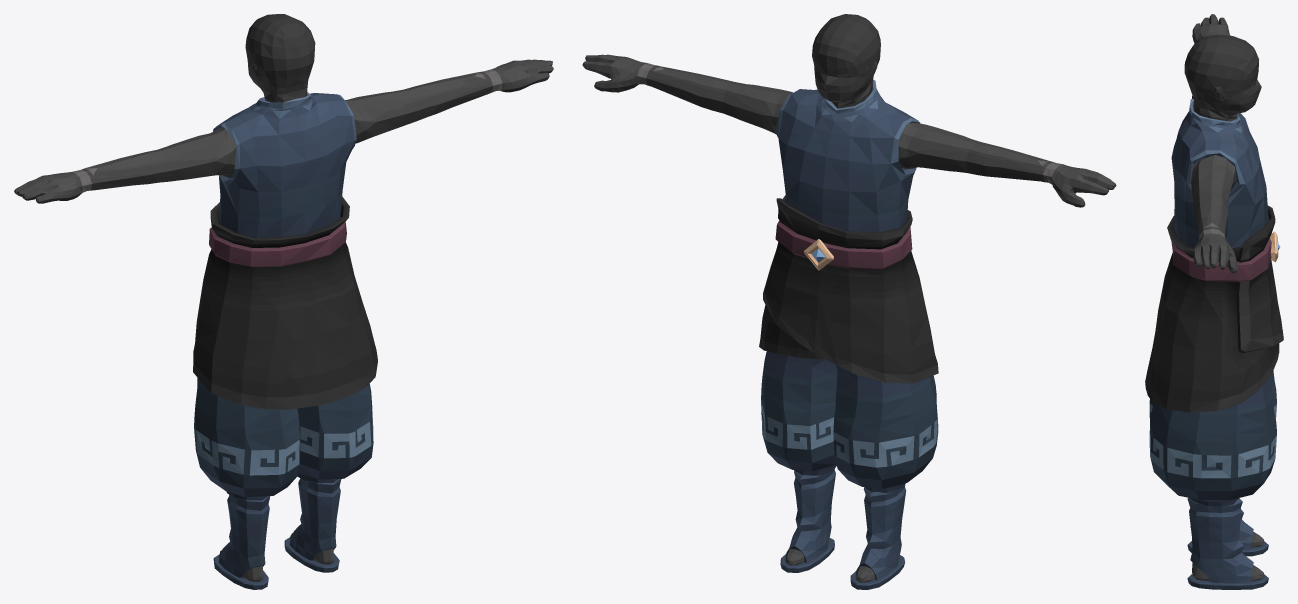
The model's file is NPC_AP23PianistBasic.glb.
3 renders of one model, left to right at view 1: azimuth 30°, elevation 25°; view 2: azimuth 150°, elevation 25°; view 3: azimuth 270°, elevation 25°, orthographic. The views are drawn at different scales.
Visible parts, largest first — view 1: NPC_AP23PianistBasic; view 2: NPC_AP23PianistBasic; view 3: NPC_AP23PianistBasic.
Boxes of the visible parts, left/top/right/bottom form: NPC_AP23PianistBasic: left=14, top=14, right=553, bottom=589; NPC_AP23PianistBasic: left=582, top=14, right=1116, bottom=589; NPC_AP23PianistBasic: left=1145, top=14, right=1283, bottom=589.
Size of the model in its own units: 14 by 13.79 by 3.28.
Materials: 1 (1 with a texture image).
